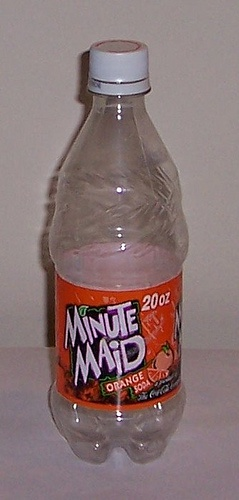emptybottle: (47, 42, 186, 462)
